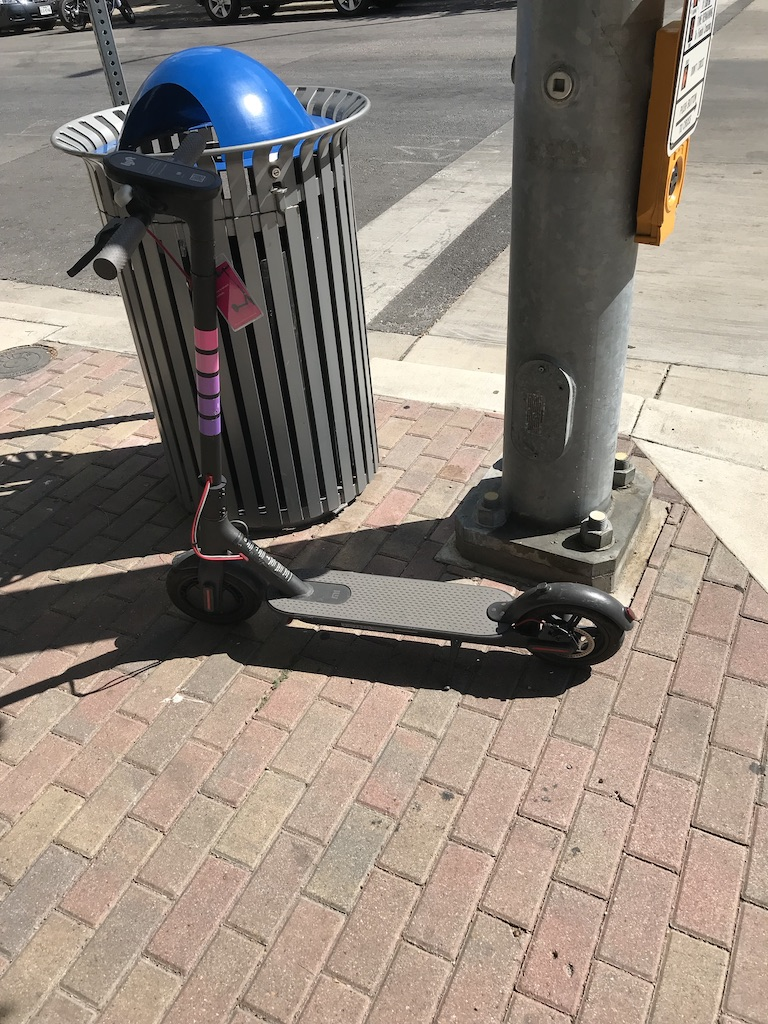scooter: (67, 131, 639, 665)
